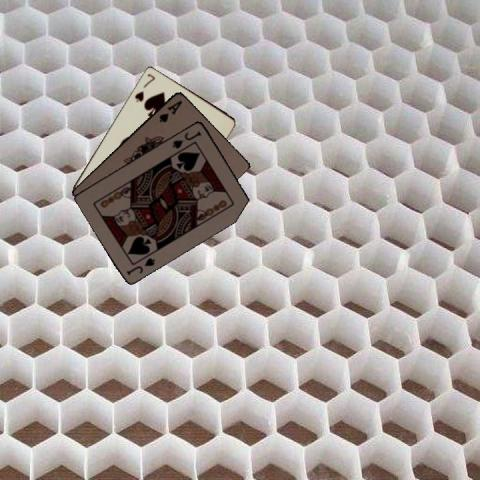7s: (131, 70, 157, 103)
As: (156, 97, 183, 124)
Js: (169, 127, 203, 150), (123, 254, 157, 276)
